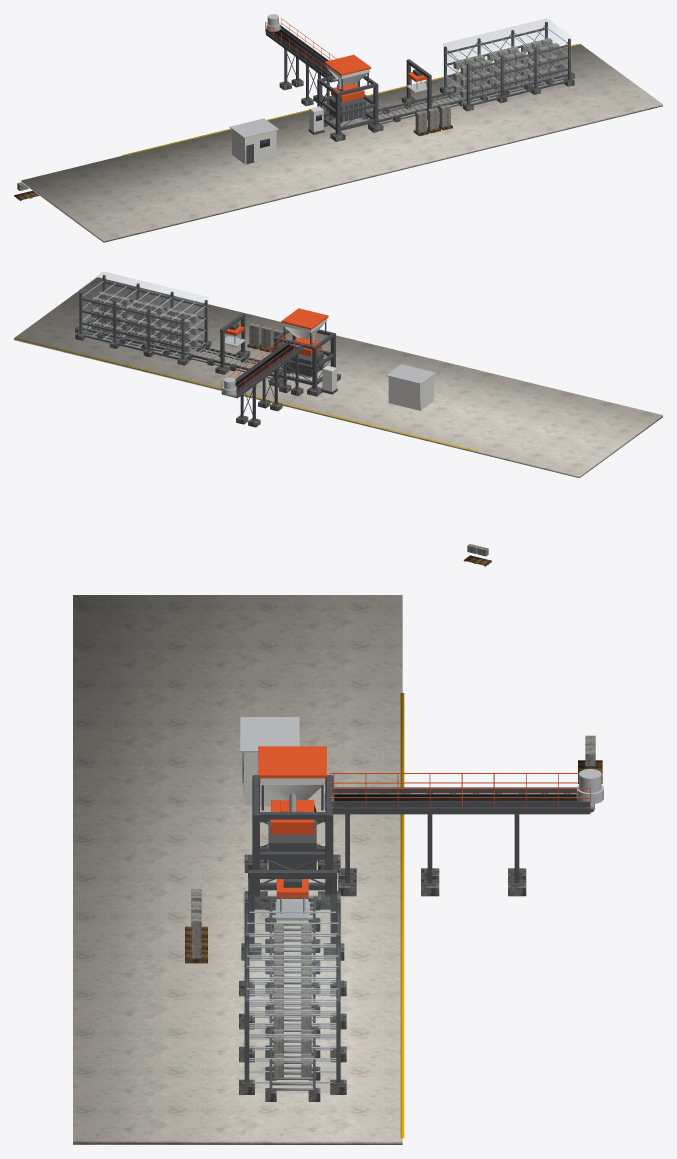
File: om-group-precast-line.glb
3 views of the same model, one above another, from view 1: azimuth 30°, elevation 25°; view 2: azimuth 150°, elevation 25°; view 3: azimuth 270°, elevation 25° (orthographic). The views are drawn at different scales.
Visible parts, largest first — view 1: YardGround, YardSteel, YardBlocks, CuringCover, YardFittings, YardFootings, YardPanels, YardOrange, YardMotors, YardBelt, YardRollers, YardLines; view 2: YardGround, YardSteel, YardBlocks, CuringCover, YardFittings, YardPanels, YardFootings, YardOrange, YardLines, YardBelt, YardMotors; view 3: YardGround, YardSteel, YardFittings, CuringCover, YardFootings, YardOrange, YardBlocks, YardRollers, YardBelt, YardLines, YardMotors, TamperHead (+1 smaller).
Boxes of the visible parts, box(x1,y1,x2,y2) form: YardGround: box(21, 44, 662, 242); YardSteel: box(246, 21, 573, 164); YardBlocks: box(415, 38, 559, 132); CuringCover: box(443, 19, 570, 97); YardFittings: box(229, 14, 567, 138); YardFootings: box(279, 65, 574, 141); YardPanels: box(232, 106, 323, 164); YardOrange: box(265, 18, 427, 81); YardMotors: box(329, 69, 422, 122); YardBelt: box(271, 29, 333, 107); YardRollers: box(265, 27, 567, 119); YardLines: box(122, 44, 578, 155); YardGround: box(14, 277, 662, 478); YardSteel: box(76, 275, 338, 422); YardBlocks: box(91, 291, 284, 352); CuringCover: box(79, 272, 207, 343); YardFittings: box(82, 281, 436, 395); YardPanels: box(322, 365, 433, 410); YardFootings: box(75, 319, 340, 427); YardOrange: box(221, 308, 328, 394); YardLines: box(16, 338, 477, 451); YardBelt: box(235, 344, 322, 391); YardMotors: box(229, 323, 323, 376); YardGround: box(73, 595, 402, 1144); YardSteel: box(241, 773, 590, 1092); YardFittings: box(240, 717, 603, 1083); CuringCover: box(244, 895, 341, 1092); YardFootings: box(239, 854, 526, 1101); YardOrange: box(258, 746, 590, 898); YardBlocks: box(191, 889, 311, 1077); YardRollers: box(272, 792, 594, 1090); YardBelt: box(314, 794, 585, 811); YardLines: box(400, 693, 404, 1138); YardMotors: box(268, 819, 316, 887); TamperHead: box(271, 800, 314, 834).
Size of the model in its own units: 56.4 by 12.18 by 23.2.
17 materials, 4 textured.
